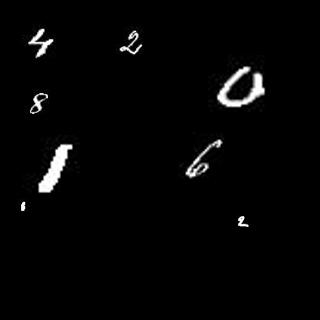eight: (29, 93, 52, 116)
four: (27, 27, 55, 63)
one: (37, 143, 75, 195), (20, 197, 26, 214)
six: (184, 134, 224, 180)
two: (116, 26, 147, 61), (237, 212, 251, 228)
zero: (214, 67, 270, 110)
